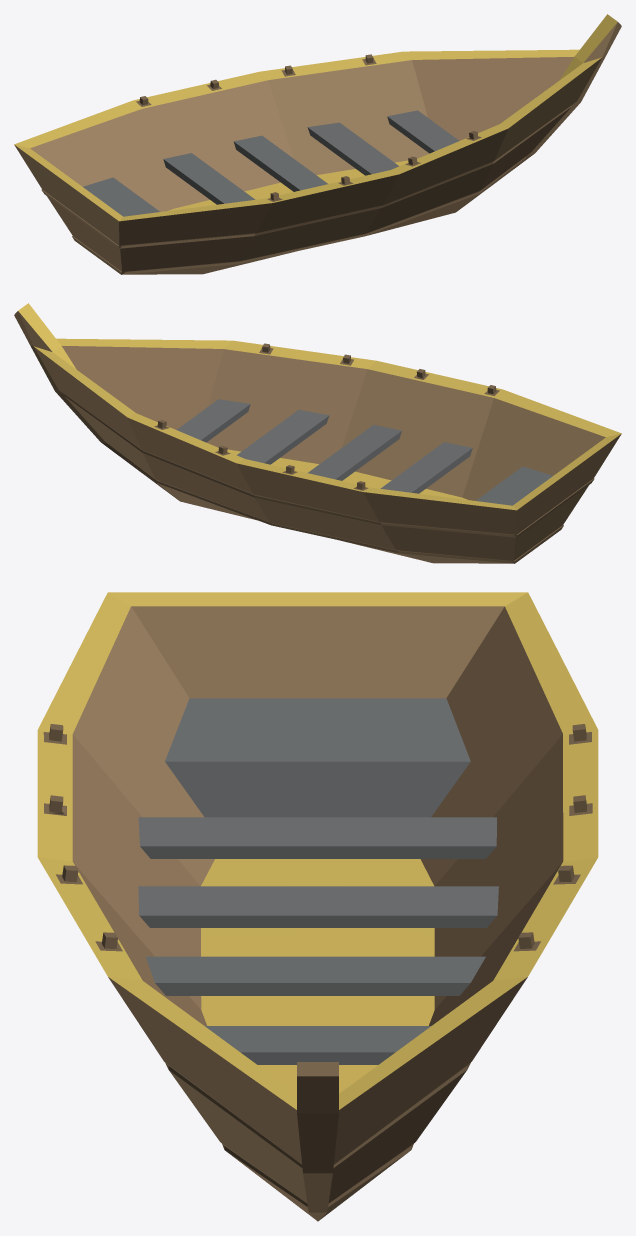
The model's file is Boat.fbx.
3 renders of one model, top to bottom at view 1: azimuth 30°, elevation 25°; view 2: azimuth 150°, elevation 25°; view 3: azimuth 270°, elevation 25°, orthographic. The views are drawn at different scales.
Parts seen in each view (by area): view 1: Plane.061; view 2: Plane.061; view 3: Plane.061.
Part boxes in pixels (box(x1,y1,x2,y2)): Plane.061: box(14, 14, 621, 274); Plane.061: box(14, 303, 621, 563); Plane.061: box(37, 592, 598, 1221).
Bounding box in the file's own units: 1632 × 443 × 720.
